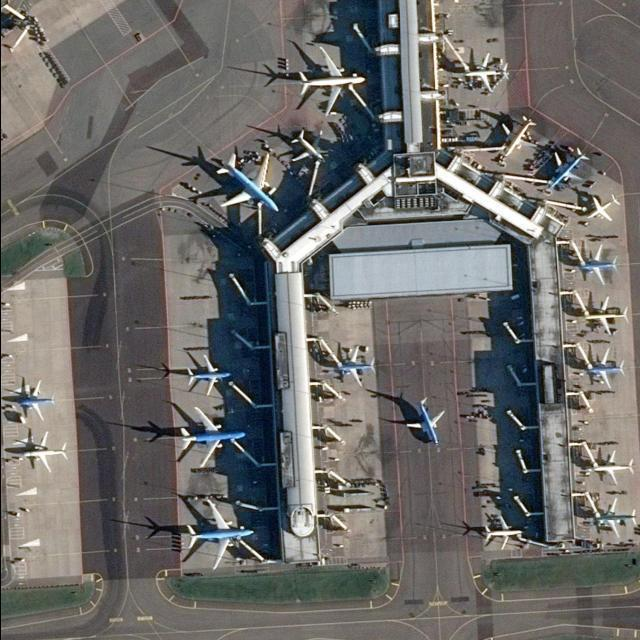Aircraft: (182, 497, 252, 570), (296, 45, 365, 115), (213, 150, 279, 214), (176, 405, 244, 467), (403, 396, 444, 446), (544, 146, 589, 190), (183, 354, 230, 396), (19, 432, 68, 472), (462, 52, 508, 92), (582, 295, 628, 335), (592, 497, 636, 538), (583, 347, 625, 389), (12, 380, 54, 421), (578, 243, 618, 285), (333, 345, 375, 385), (498, 114, 536, 158), (589, 448, 633, 484), (481, 514, 521, 550), (289, 128, 326, 165), (584, 193, 620, 223)
